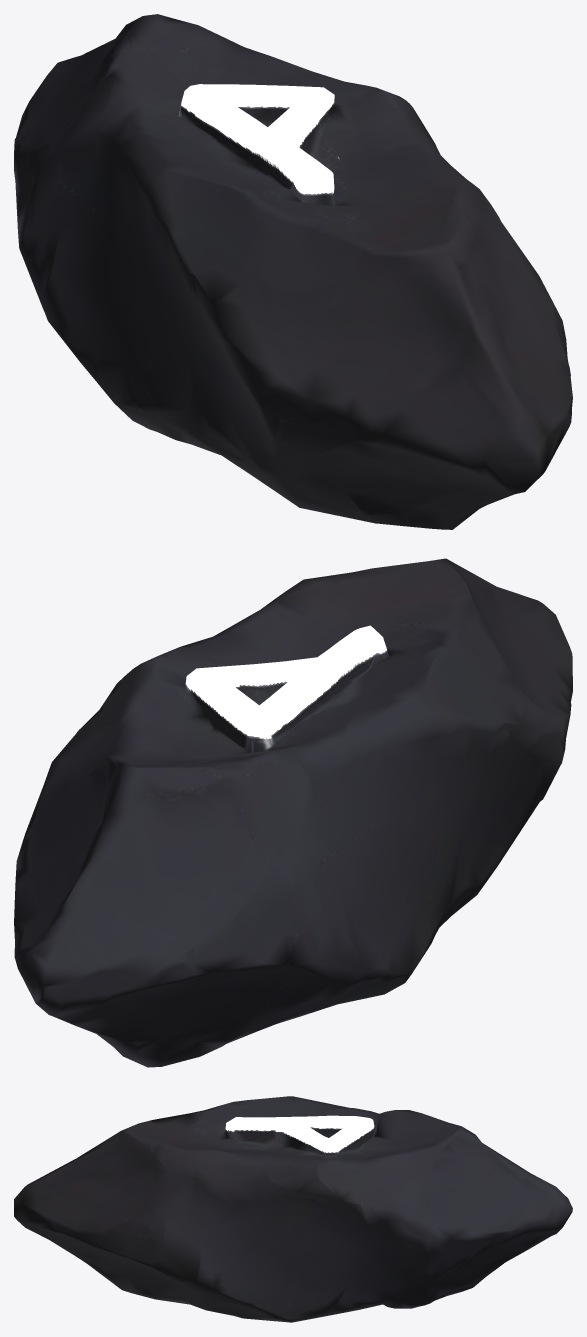
Rendered from ev_shard-CKPx2crd.glb.
3 renders of one model, top to bottom at view 1: azimuth 30°, elevation 25°; view 2: azimuth 150°, elevation 25°; view 3: azimuth 270°, elevation 25°, orthographic. The views are drawn at different scales.
Visible parts, largest first — view 1: tripo_node_9239c48d-4bb7-4df5-82f7-816430e8af04; view 2: tripo_node_9239c48d-4bb7-4df5-82f7-816430e8af04; view 3: tripo_node_9239c48d-4bb7-4df5-82f7-816430e8af04.
Part boxes in pixels (left/top/right/bottom): tripo_node_9239c48d-4bb7-4df5-82f7-816430e8af04: left=14, top=14, right=572, bottom=529; tripo_node_9239c48d-4bb7-4df5-82f7-816430e8af04: left=14, top=558, right=572, bottom=1067; tripo_node_9239c48d-4bb7-4df5-82f7-816430e8af04: left=14, top=1096, right=572, bottom=1322.
Bounding box in the file's own units: 0.3335 × 0.2973 × 0.9.
1 material, 1 textured.
